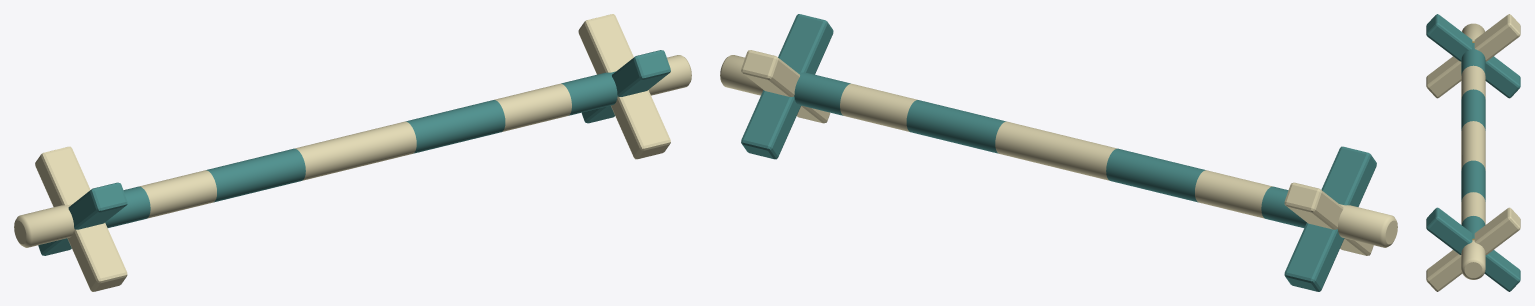
The model's file is low_cavaletti.glb.
3 views of the same model, side by side, from view 1: azimuth 30°, elevation 25°; view 2: azimuth 150°, elevation 25°; view 3: azimuth 270°, elevation 25° (orthographic). The views are drawn at different scales.
Parts seen in each view (by area): view 1: Horse_Low_Cavaletti; view 2: Horse_Low_Cavaletti; view 3: Horse_Low_Cavaletti.
Boxes of the visible parts, bbox=[...] form: Horse_Low_Cavaletti: bbox=[14, 14, 691, 291]; Horse_Low_Cavaletti: bbox=[720, 14, 1397, 291]; Horse_Low_Cavaletti: bbox=[1426, 14, 1520, 291].
Size of the model in its own units: 3 by 0.4443 by 0.5047.
